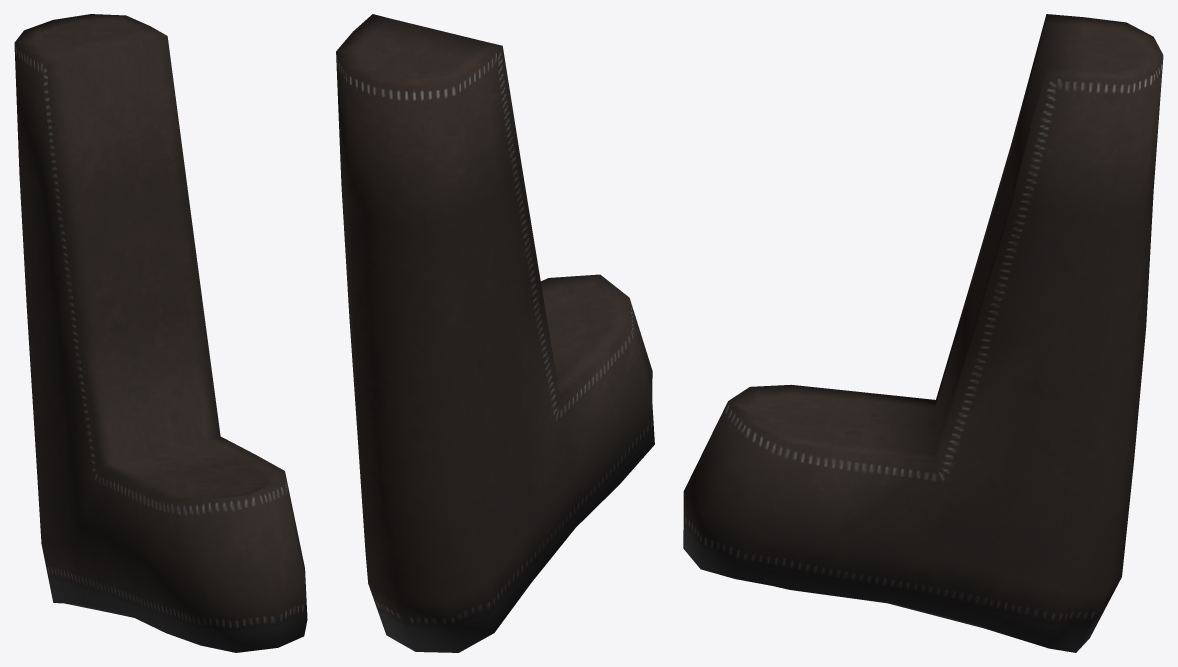
File: TLOG_RecoilPad.fbx
3 views of the same model, side by side, from view 1: azimuth 30°, elevation 25°; view 2: azimuth 150°, elevation 25°; view 3: azimuth 270°, elevation 25° (orthographic). The views are drawn at different scales.
Visible parts, largest first — view 1: Recoilpad; view 2: Recoilpad; view 3: Recoilpad.
Boxes of the visible parts, left/top/right/bottom form: Recoilpad: left=14, top=14, right=307, bottom=652; Recoilpad: left=336, top=14, right=654, bottom=652; Recoilpad: left=683, top=14, right=1163, bottom=652.
Bounding box in the file's own units: 0.0277 × 0.1213 × 0.089.
